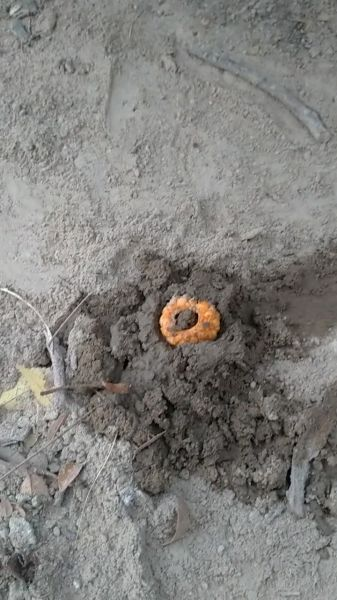eggs: (155, 291, 226, 346)
